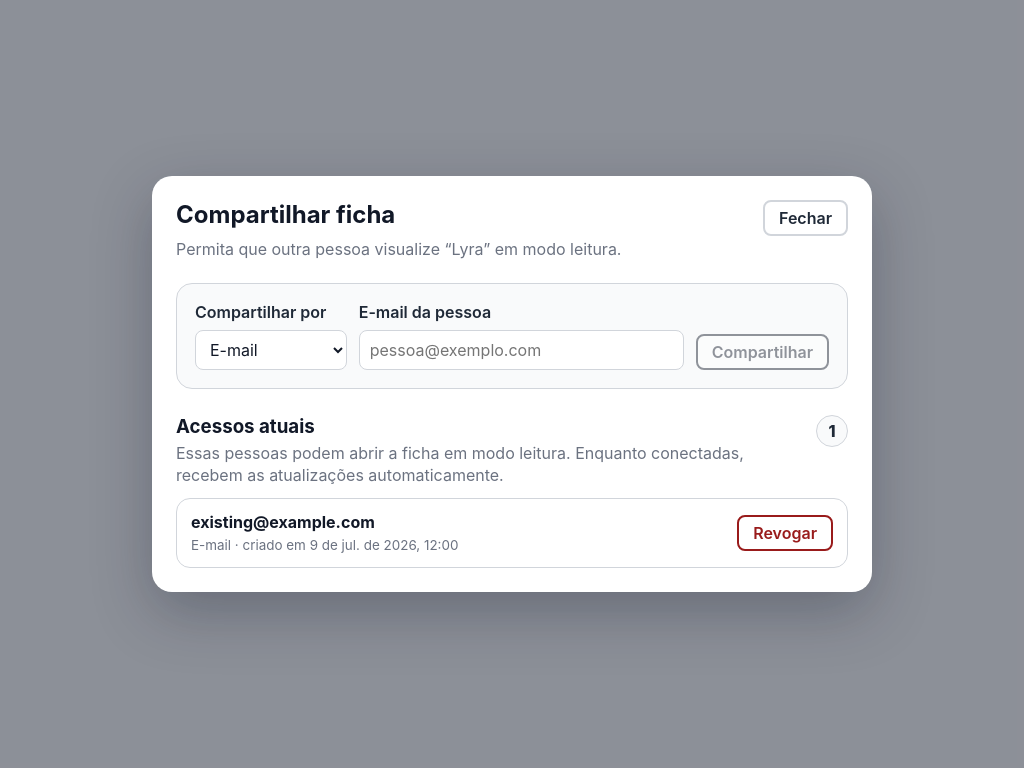
it: CharacterShareModal › loads, creates, and revokes owner shares
This screenshot has width=1024, height=768.
expect the text "existing@example.com" is shown: met, box [191,512,375,532]
Type "new@example.com" into the field labelled "E-mail da pessoa" at (521, 350), box [359,330,684,370]
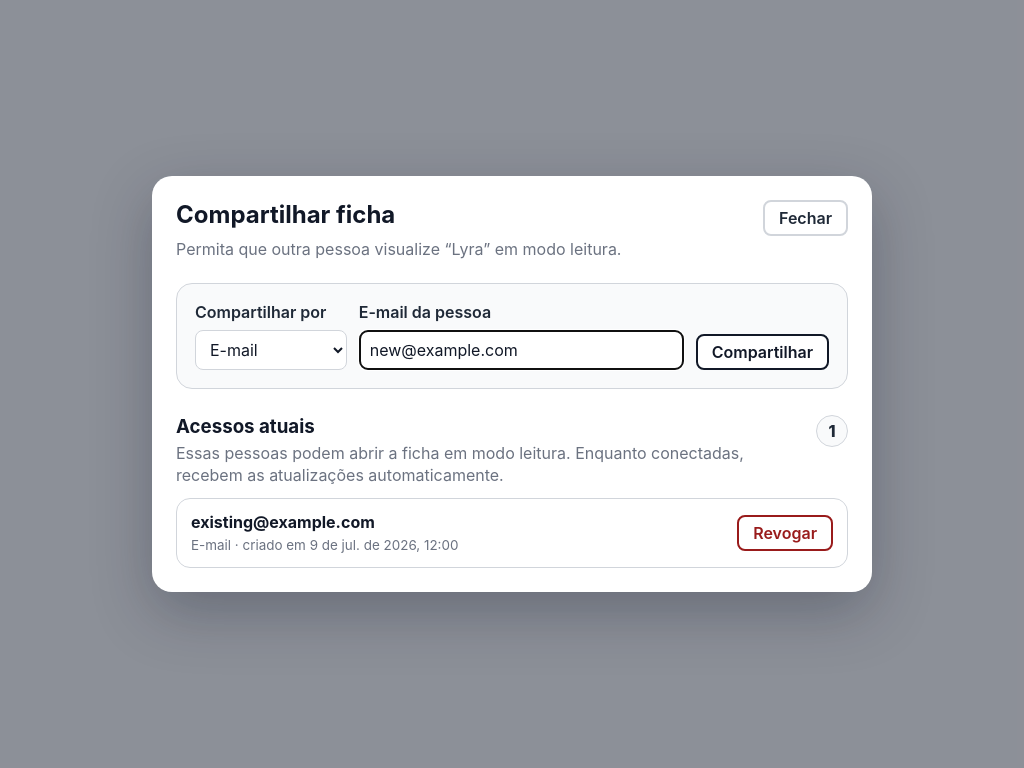
Click the button "Compartilhar" at (762, 352), box [696,334,829,370]
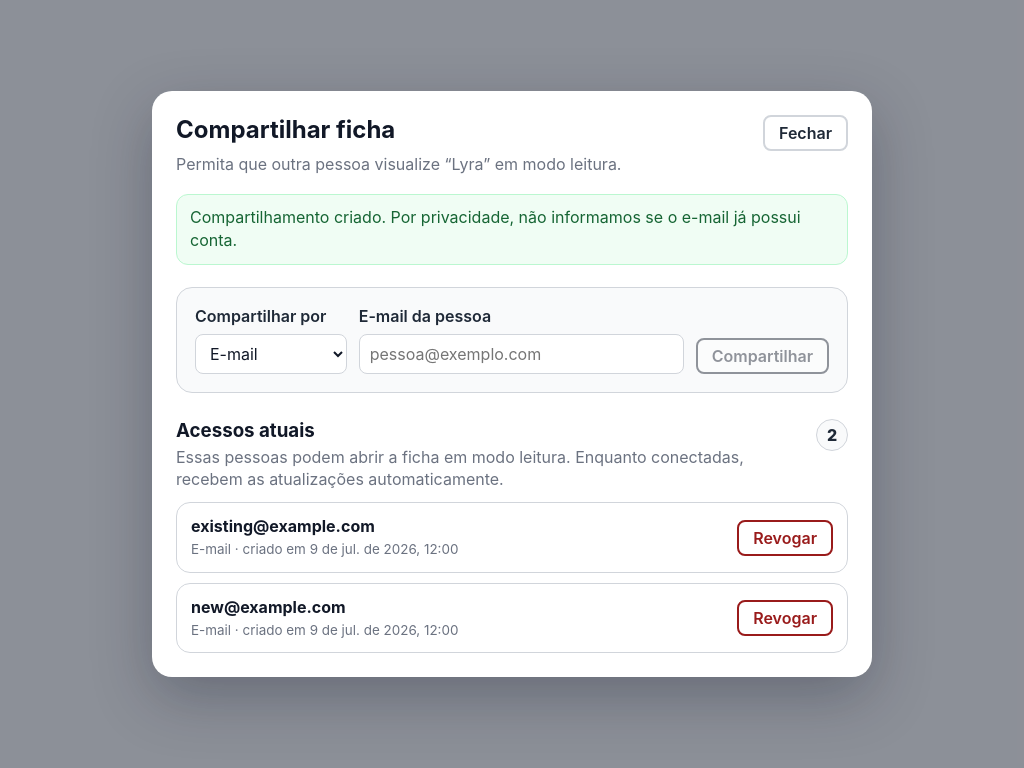
expect the list item "existing@example.com" is shown: met, box [191,516,375,536]
expect the text "Por privacidade, não informamos se o e-mail já possui conta" is shown: met, box [190,207,801,250]
expect the text "new@example.com" is shown: met, box [191,597,346,617]
Click the button "Revogar" in the row of "existing@example.com" at (785, 538), box [737,520,833,556]
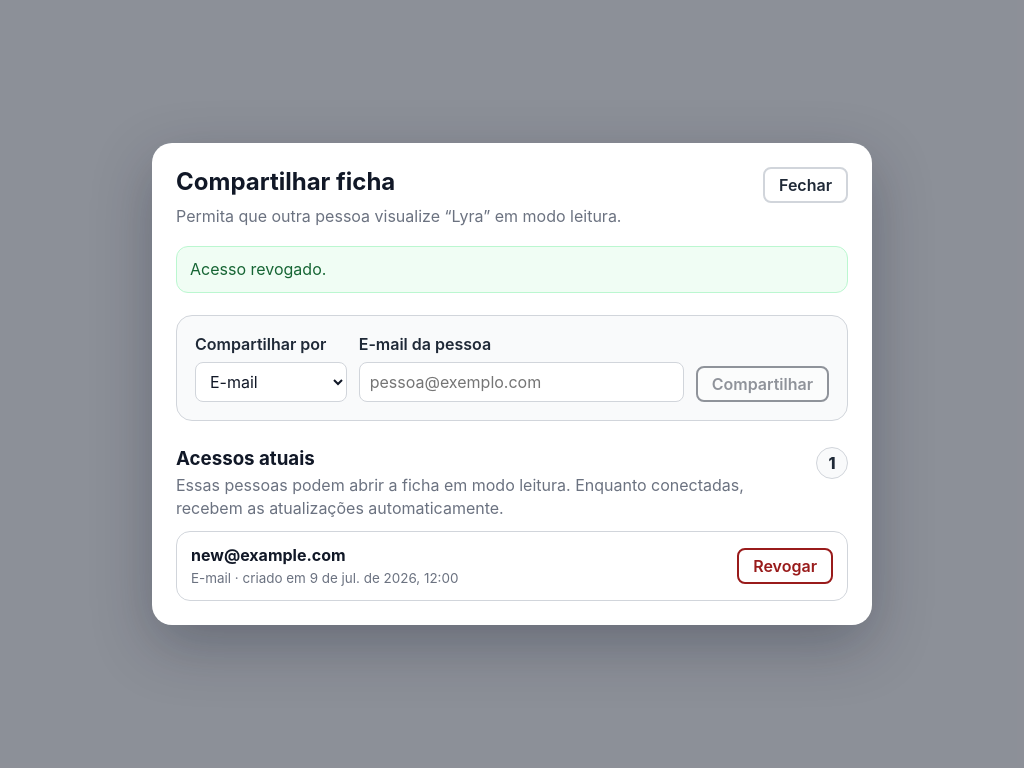
expect the text "existing@example.com" is gone: met
expect the text "Acesso revogado." is shown: met, box [176,246,848,293]
